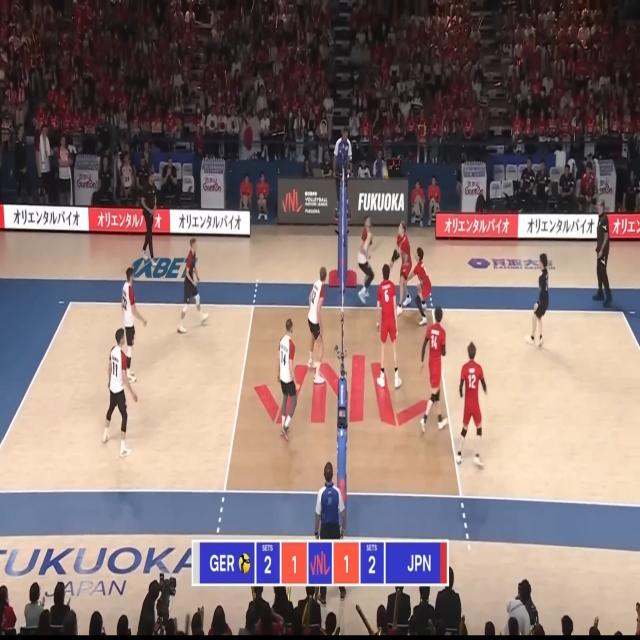ball: (382, 166, 388, 178)
